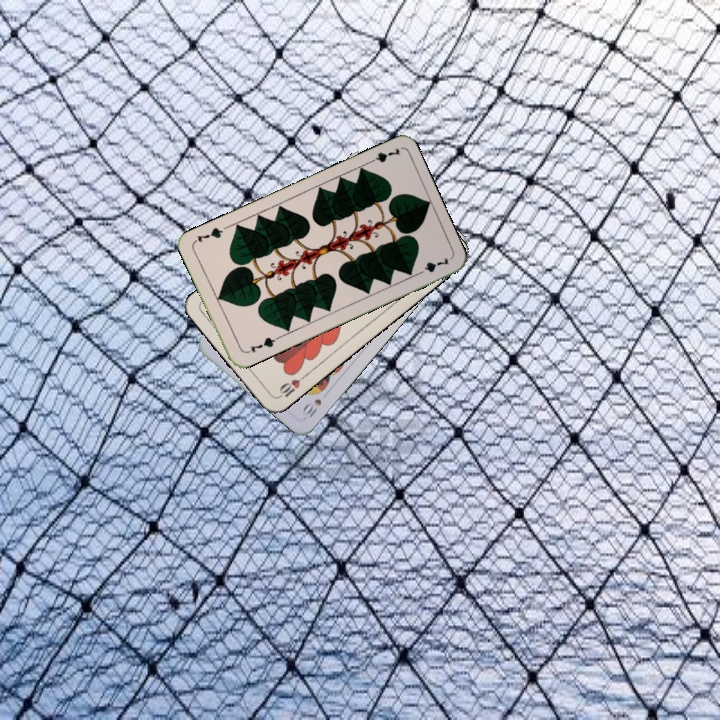G7: (363, 144, 403, 167), (241, 333, 280, 356)
H10: (274, 371, 309, 400)
S10: (298, 394, 324, 420)
